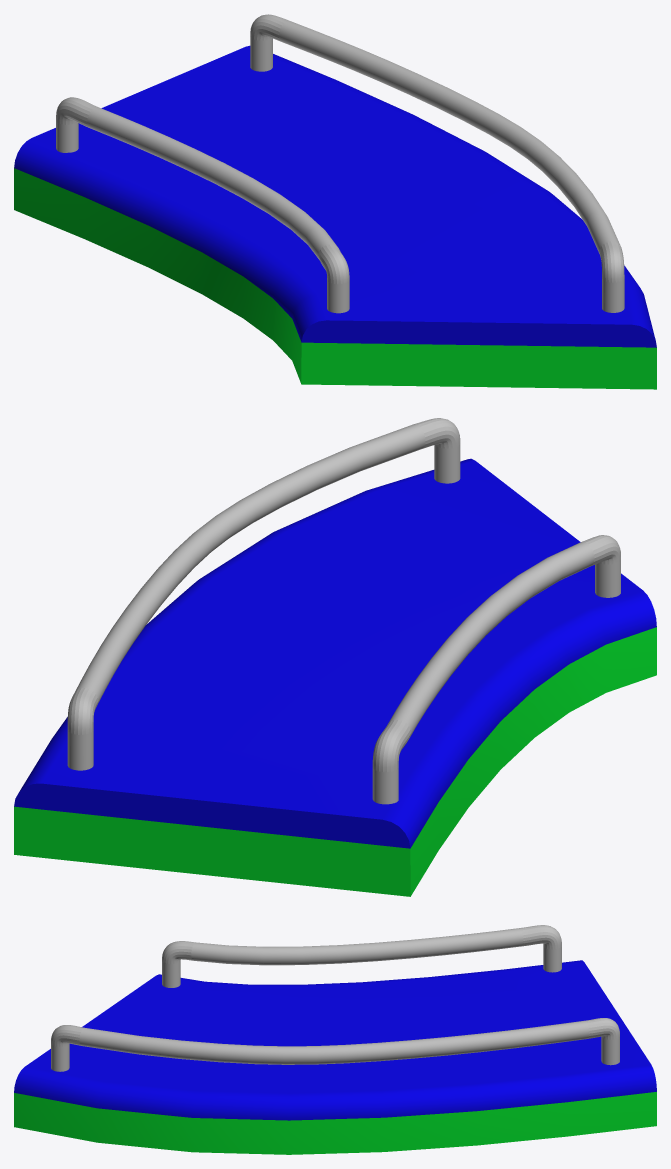
3 renders of one model, top to bottom at view 1: azimuth 30°, elevation 25°; view 2: azimuth 150°, elevation 25°; view 3: azimuth 270°, elevation 25°, orthographic. The views are drawn at different scales.
Parts seen in each view (by area): view 1: polySurface10, pCylinder28, pCylinder29; view 2: polySurface10, pCylinder28, pCylinder29; view 3: polySurface10, pCylinder28, pCylinder29.
Boxes of the visible parts, x1,y1,x2,y2 form: polySurface10: [14, 45, 656, 389]; pCylinder28: [250, 14, 624, 312]; pCylinder29: [56, 97, 349, 313]; polySurface10: [14, 458, 656, 896]; pCylinder28: [67, 418, 460, 770]; pCylinder29: [372, 535, 620, 804]; polySurface10: [14, 960, 656, 1154]; pCylinder28: [51, 1018, 619, 1071]; pCylinder29: [162, 925, 561, 987].
Bounding box in the file's own units: 598 × 184 × 1101.
